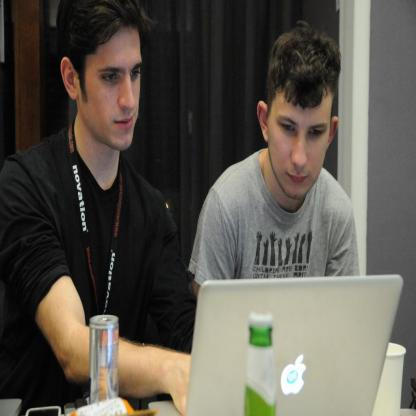board: (182, 275, 404, 414), (88, 313, 119, 404)
